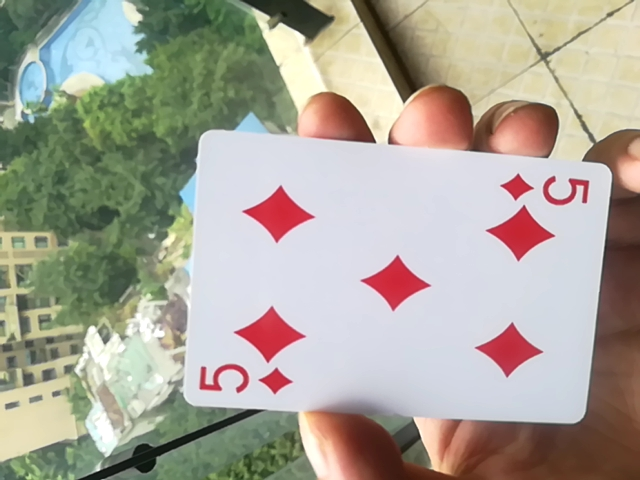fk 5: (176, 125, 622, 432)
